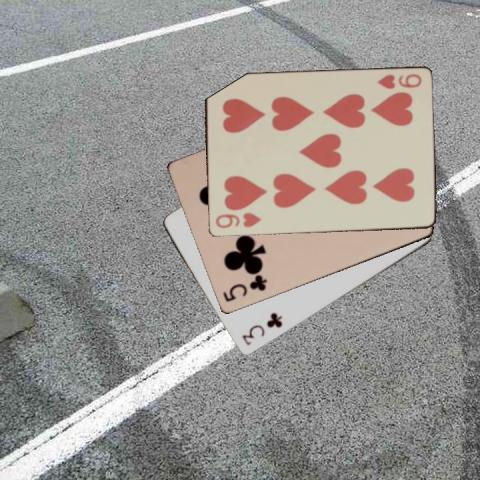3c: (239, 310, 284, 347)
5c: (219, 273, 269, 304)
9h: (212, 210, 263, 230), (373, 70, 423, 90)
